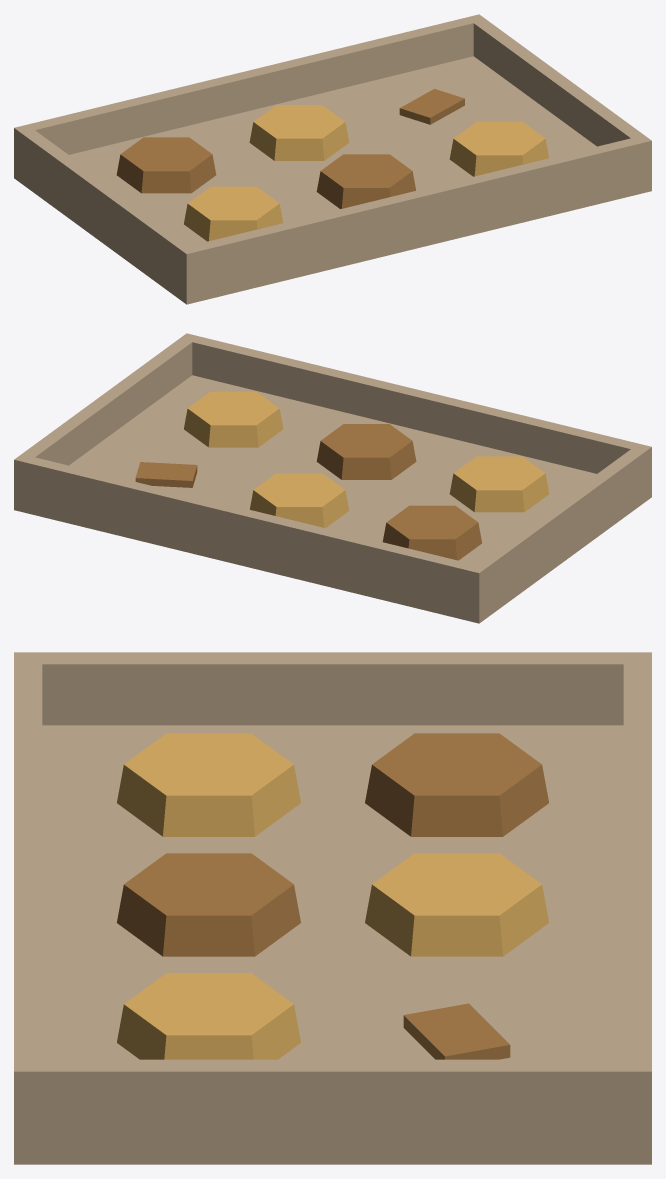
The model's file is prop-resin-cake-tray.fbx.
The picture shows the model from 3 angles, top to bottom: view 1: azimuth 30°, elevation 25°; view 2: azimuth 150°, elevation 25°; view 3: azimuth 270°, elevation 25°; orthographic projection. The views are drawn at different scales.
Parts seen in each view (by area): view 1: prop-resin-cake-tray; view 2: prop-resin-cake-tray; view 3: prop-resin-cake-tray.
Boxes of the visible parts, x1,y1,x2,y2 form: prop-resin-cake-tray: [14, 14, 651, 304]; prop-resin-cake-tray: [14, 333, 651, 623]; prop-resin-cake-tray: [14, 652, 651, 1164].
Bounding box in the file's own units: 28 × 2.9 × 18.
